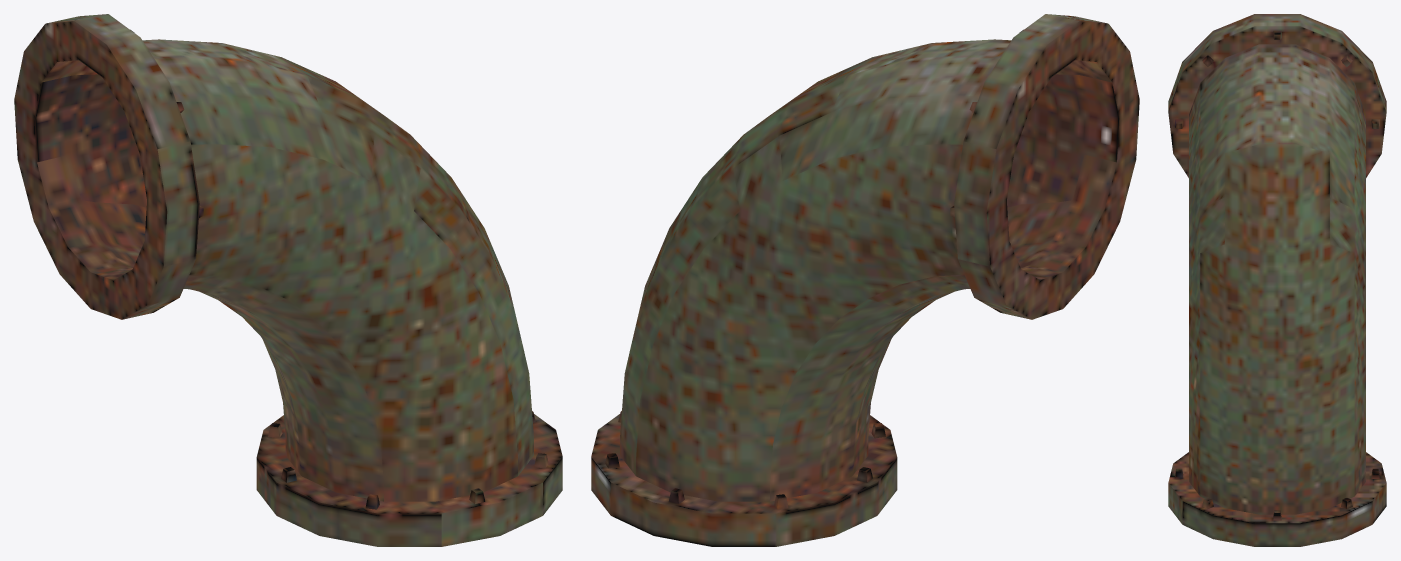
The model's file is Pipe_Set_2_2.glb.
3 renders of one model, left to right at view 1: azimuth 30°, elevation 25°; view 2: azimuth 150°, elevation 25°; view 3: azimuth 270°, elevation 25°, orthographic. The views are drawn at different scales.
Parts seen in each view (by area): view 1: Pipe_Set_2_2; view 2: Pipe_Set_2_2; view 3: Pipe_Set_2_2.
Boxes of the visible parts, box(x1,y1,x2,y2) form: Pipe_Set_2_2: box(14, 14, 562, 546); Pipe_Set_2_2: box(591, 14, 1139, 546); Pipe_Set_2_2: box(1168, 14, 1386, 546).
Size of the model in its own units: 0.458 by 0.5145 by 0.2703.
Materials: 1 (1 with a texture image).
